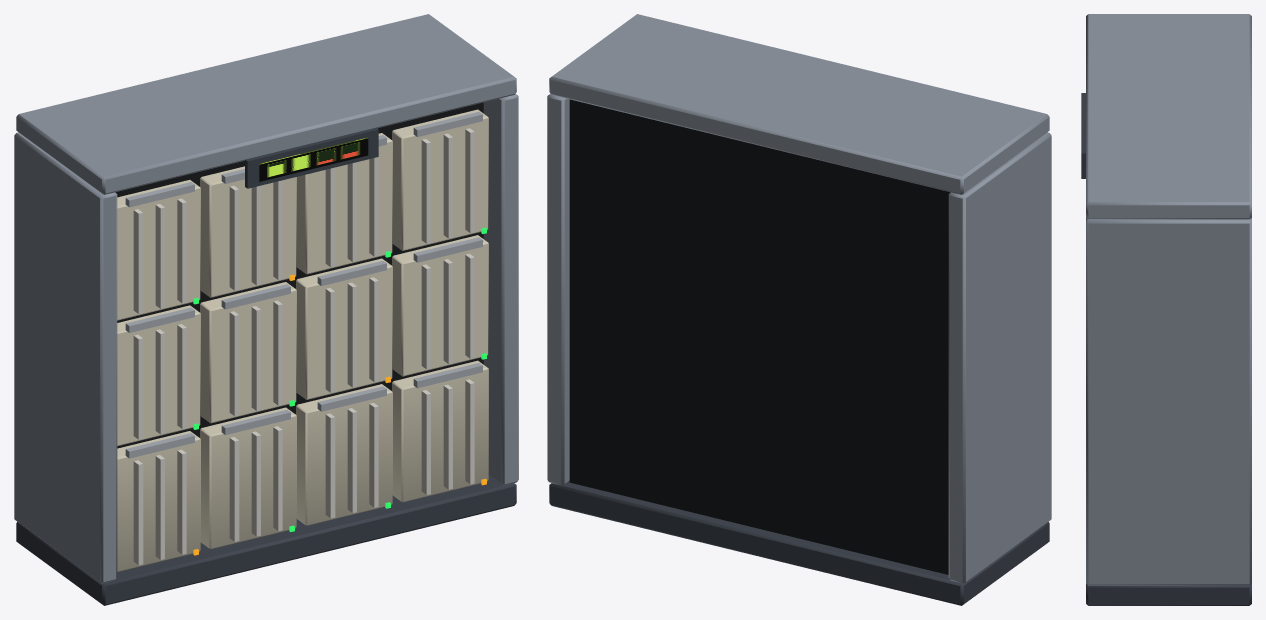
The model's file is scrubber_filter_bank_rack.glb.
3 views of the same model, side by side, from view 1: azimuth 30°, elevation 25°; view 2: azimuth 150°, elevation 25°; view 3: azimuth 270°, elevation 25° (orthographic). The views are drawn at different scales.
Visible parts, largest first — view 1: scrubber_filter_bank_rack; view 2: scrubber_filter_bank_rack; view 3: scrubber_filter_bank_rack.
Part boxes in pixels (bbox=[...]): scrubber_filter_bank_rack: bbox=[14, 14, 518, 605]; scrubber_filter_bank_rack: bbox=[547, 14, 1051, 605]; scrubber_filter_bank_rack: bbox=[1081, 14, 1251, 605].
Bounding box in the file's own units: 1.92 × 1.88 × 0.725.
9 materials, 1 textured.
